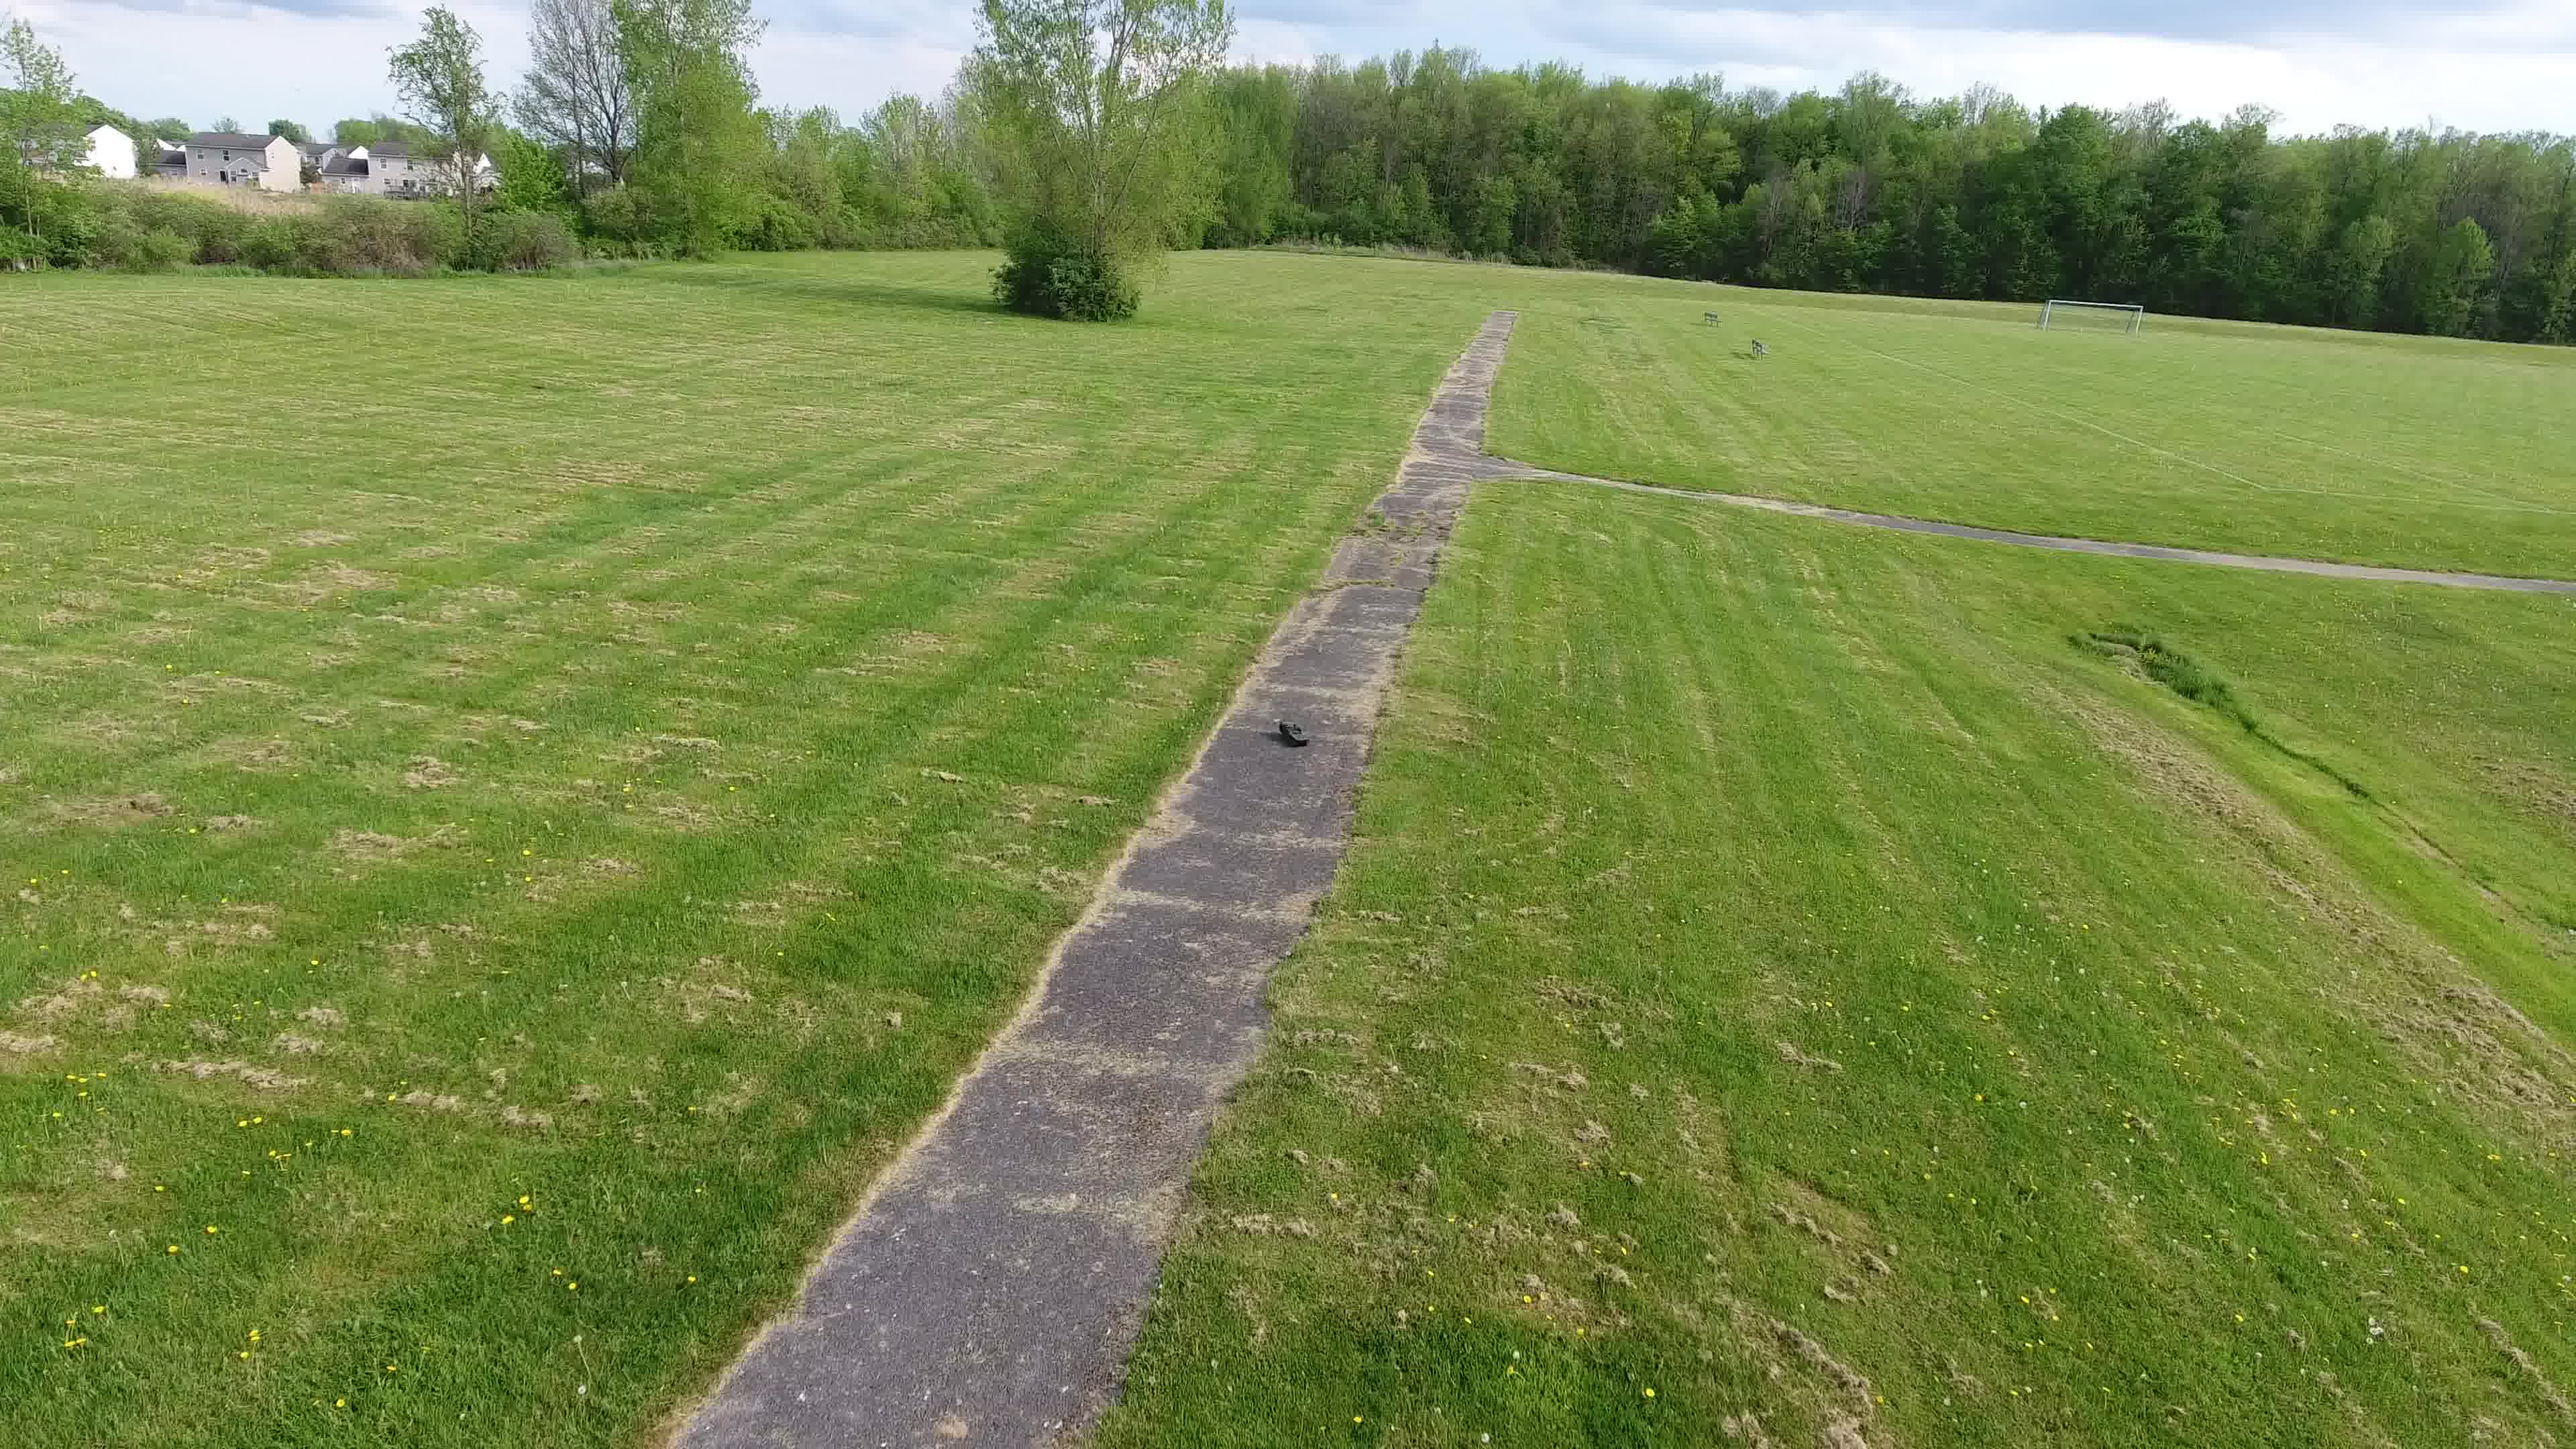transporter9_camo: (1277, 720, 1311, 748)
